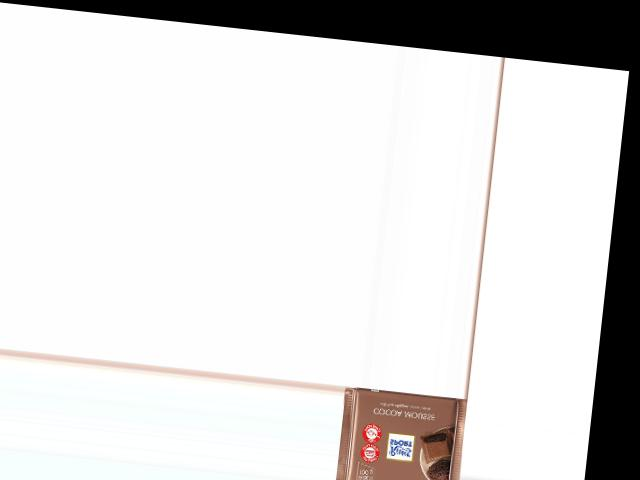chocolate: (336, 385, 468, 480)
